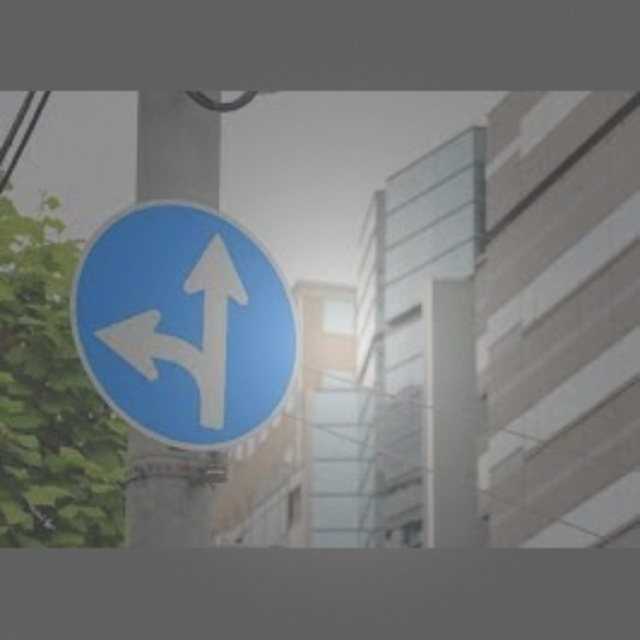Compulsory_Ahead_or_Turn_Left: (74, 202, 298, 449)
